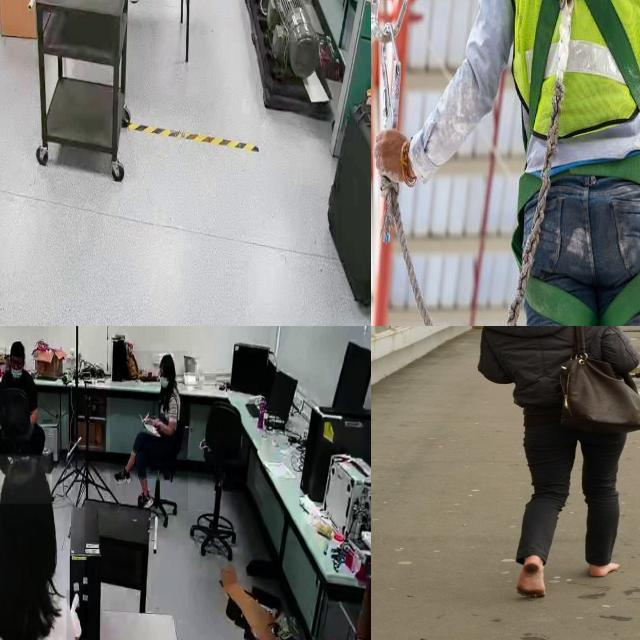Barefoots: (516, 558, 546, 598), (589, 563, 620, 577)
Harness: (517, 0, 640, 308)
face_mask: (6, 354, 26, 386), (156, 359, 172, 390)
hand_glove: (66, 589, 87, 640)
hand_noglove: (153, 419, 163, 434)
head_nohelmet: (0, 455, 52, 504), (10, 340, 24, 356), (160, 353, 174, 367)
person: (0, 454, 85, 640), (110, 350, 188, 512), (0, 341, 47, 475)
shoes: (112, 462, 134, 488), (125, 0, 140, 10)
